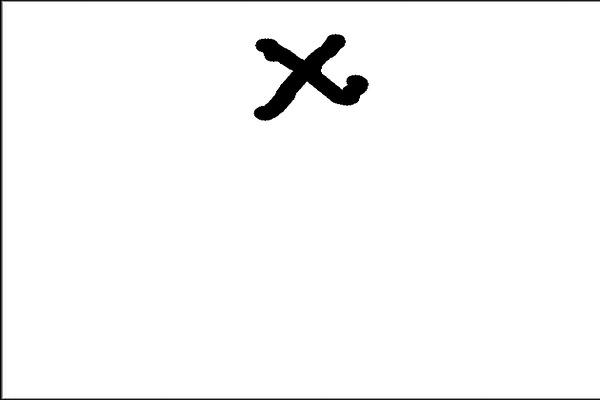X: (235, 17, 373, 139)
